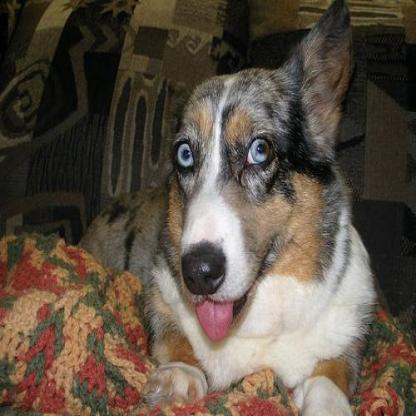Cardigan: (75, 0, 378, 413)
